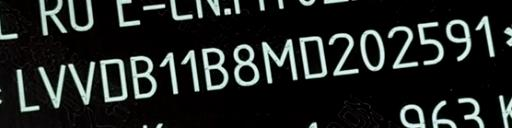letter: (260, 38, 300, 84), (296, 36, 330, 80), (36, 64, 68, 110), (385, 26, 419, 68), (328, 32, 358, 78), (200, 46, 230, 92), (129, 55, 159, 101), (98, 58, 128, 104), (66, 60, 96, 106), (230, 42, 260, 86), (416, 20, 444, 66), (446, 18, 472, 62), (15, 68, 41, 112), (360, 28, 384, 72), (178, 48, 202, 92), (156, 52, 180, 94), (474, 14, 496, 58)
